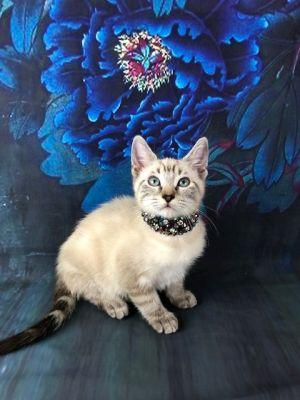siamese: (127, 135, 216, 229)
